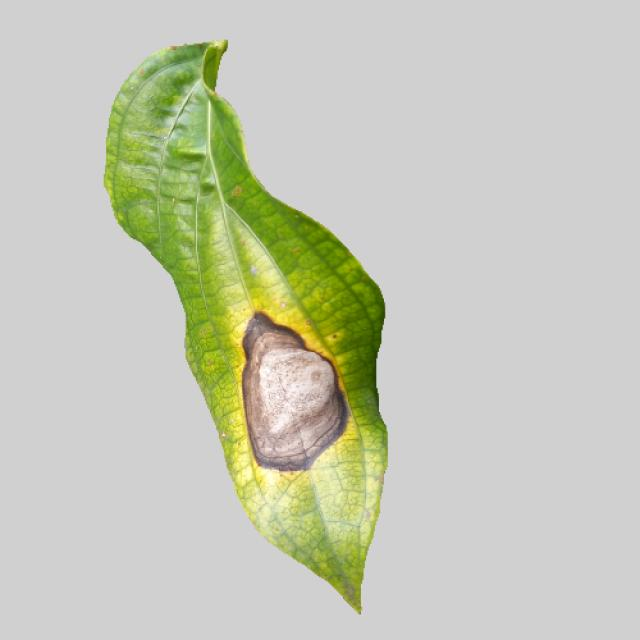leaf-blight: (88, 41, 392, 625)
